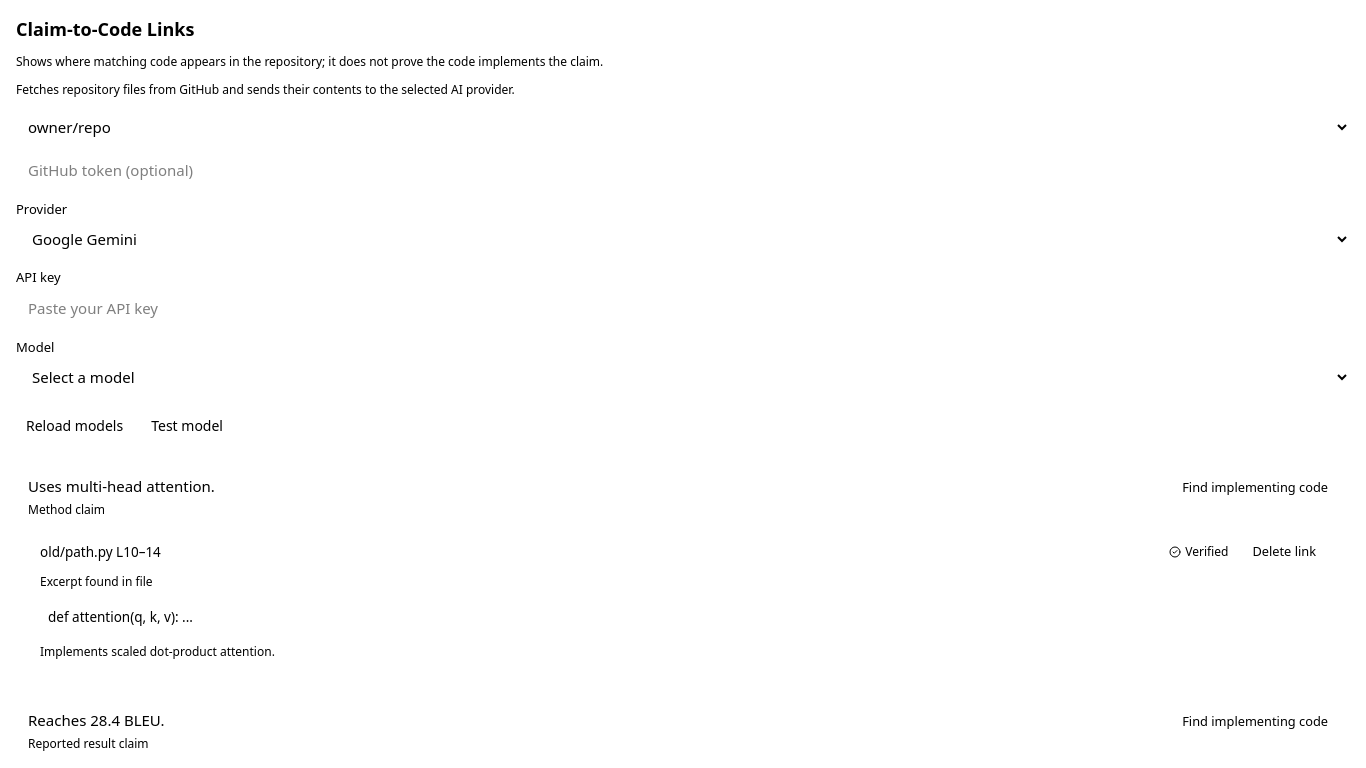
Test case: CodeLinksPanel › replaces existing links for the claim with the returned ones
In the password field labelled "API key": (683, 308) [16,290,1350,326], type "test-key"
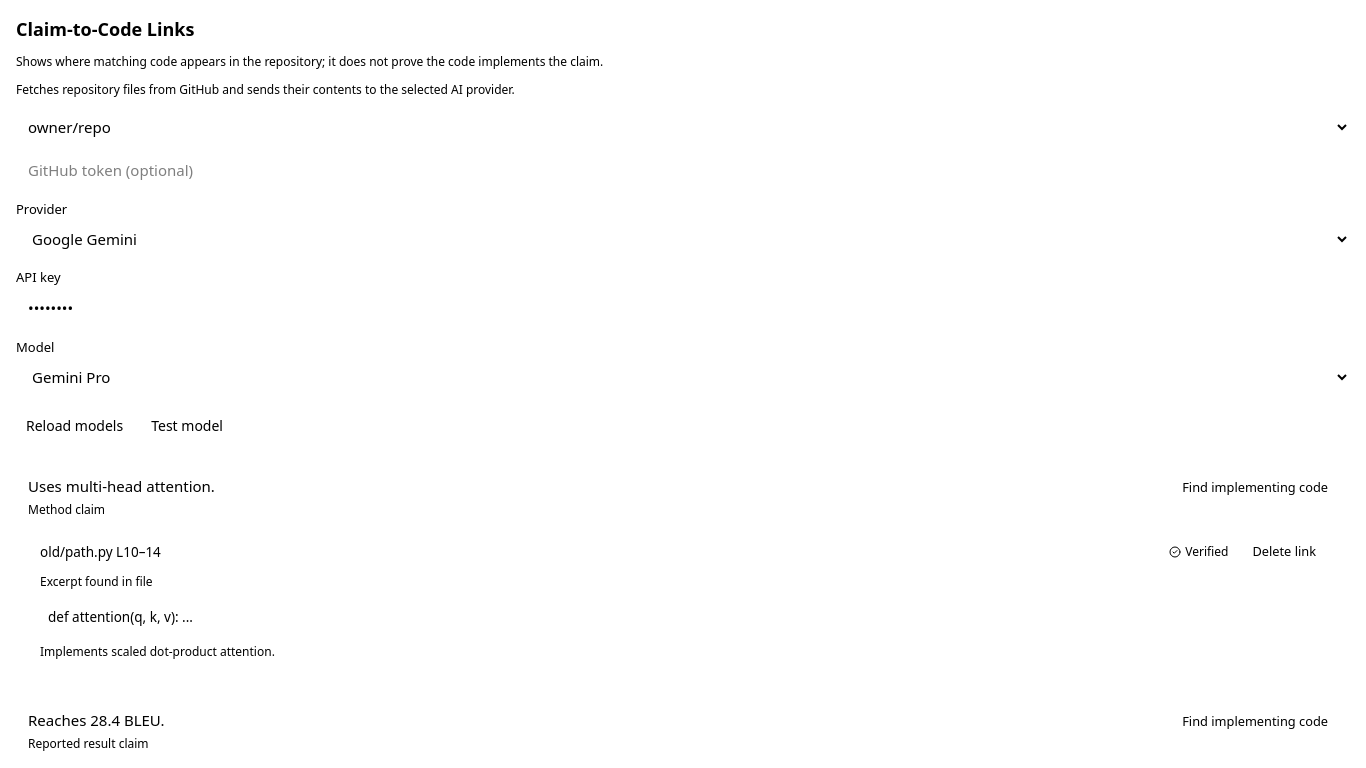
Click the button "Find implementing code" in the row of "Uses multi-head attention.": (1255, 488) [1172,474,1338,502]
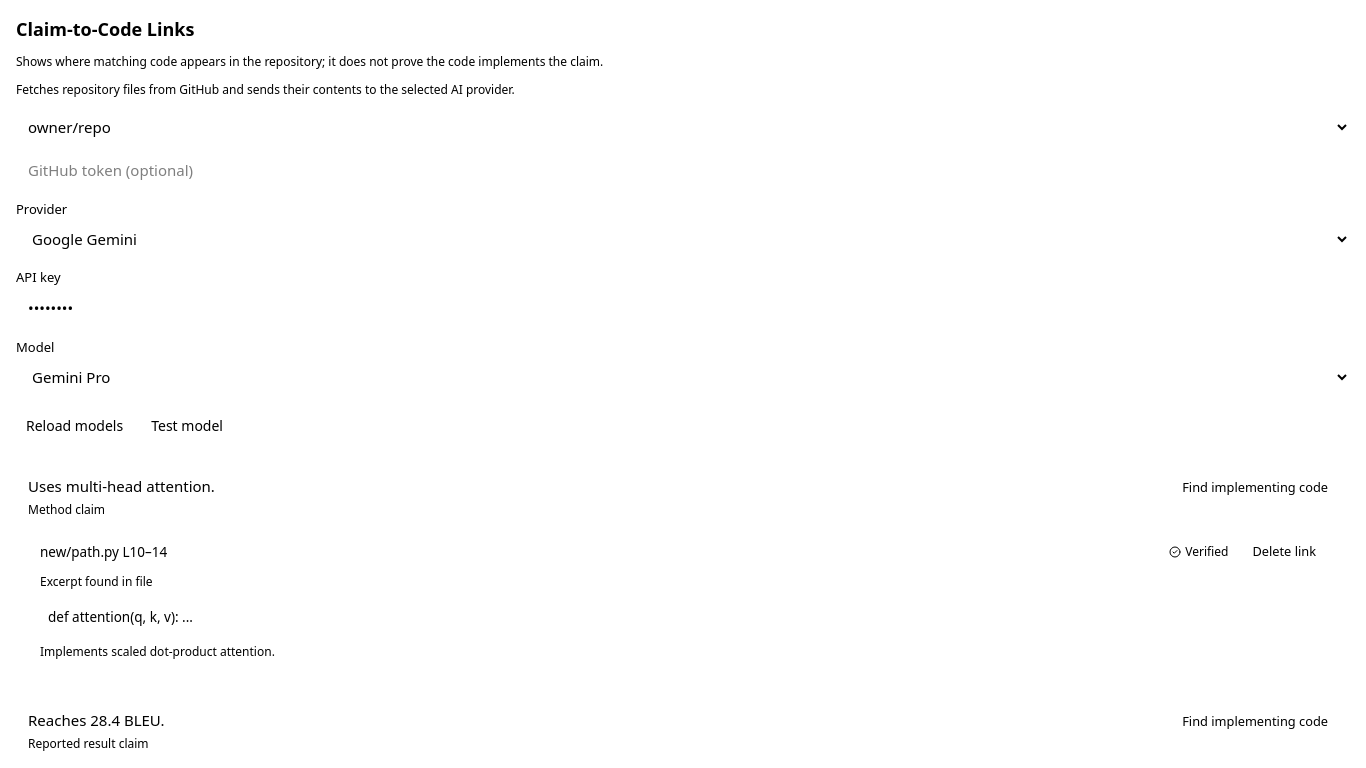
Result: the text "new/path.py L10–14" is shown at [40,541,167,563]
Result: the text "old/path.py" is gone
